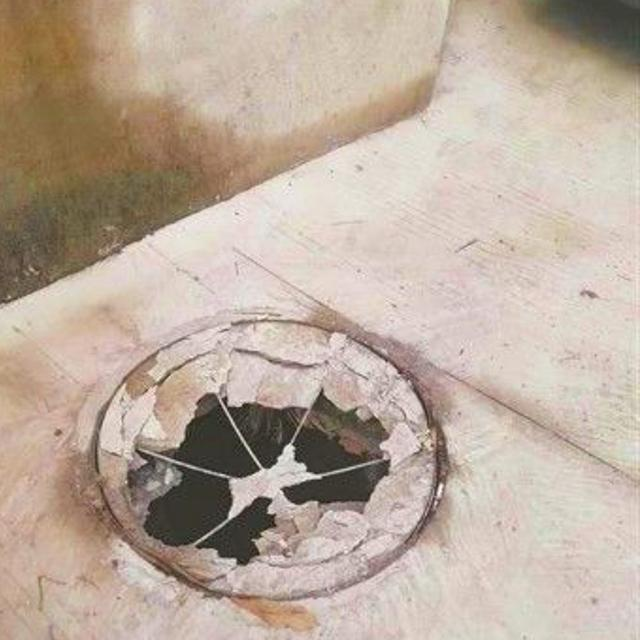broke: (37, 289, 480, 640)
